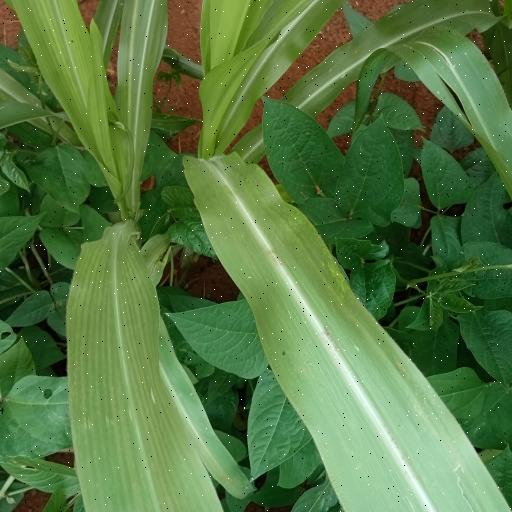Corn_Brown_Spots: (189, 143, 512, 512), (56, 222, 238, 512), (13, 0, 165, 207)
